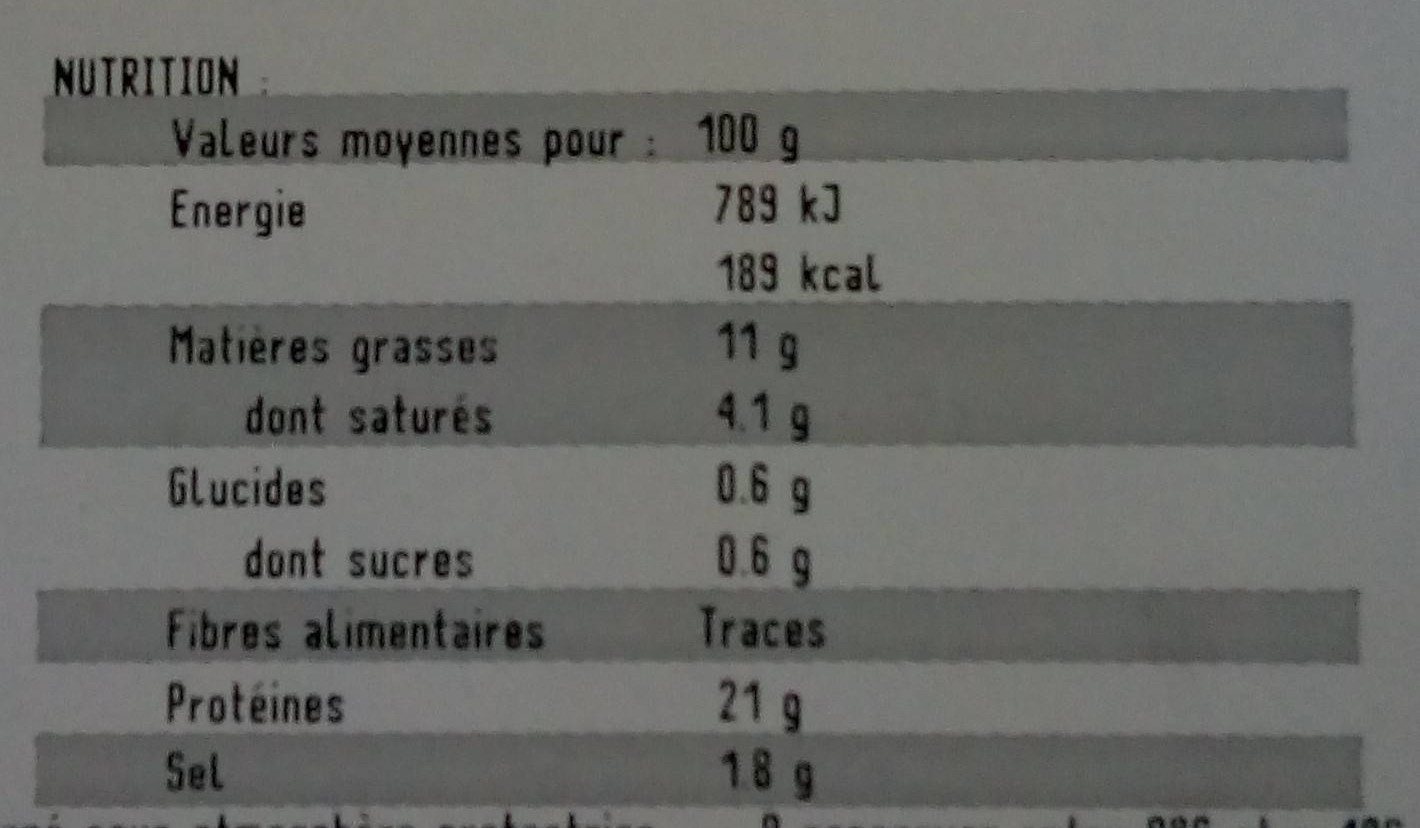column: (152, 105, 628, 803), (677, 106, 893, 802)
table: (45, 38, 1365, 807)
